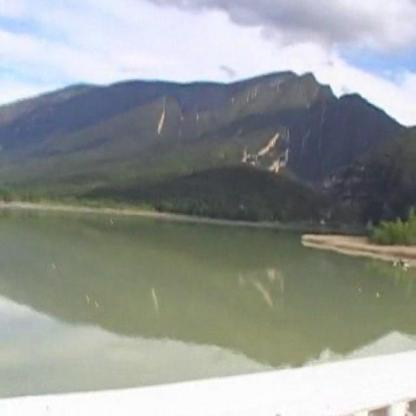other: (85, 362, 413, 411)
